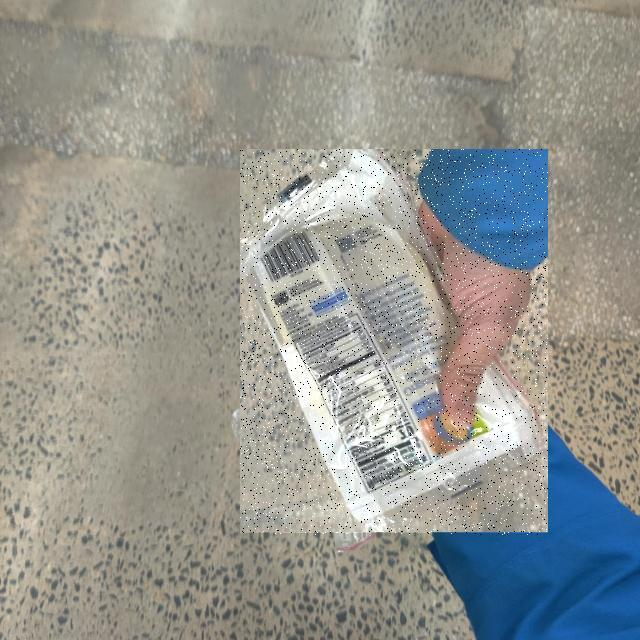Cheese: (240, 150, 548, 536)
